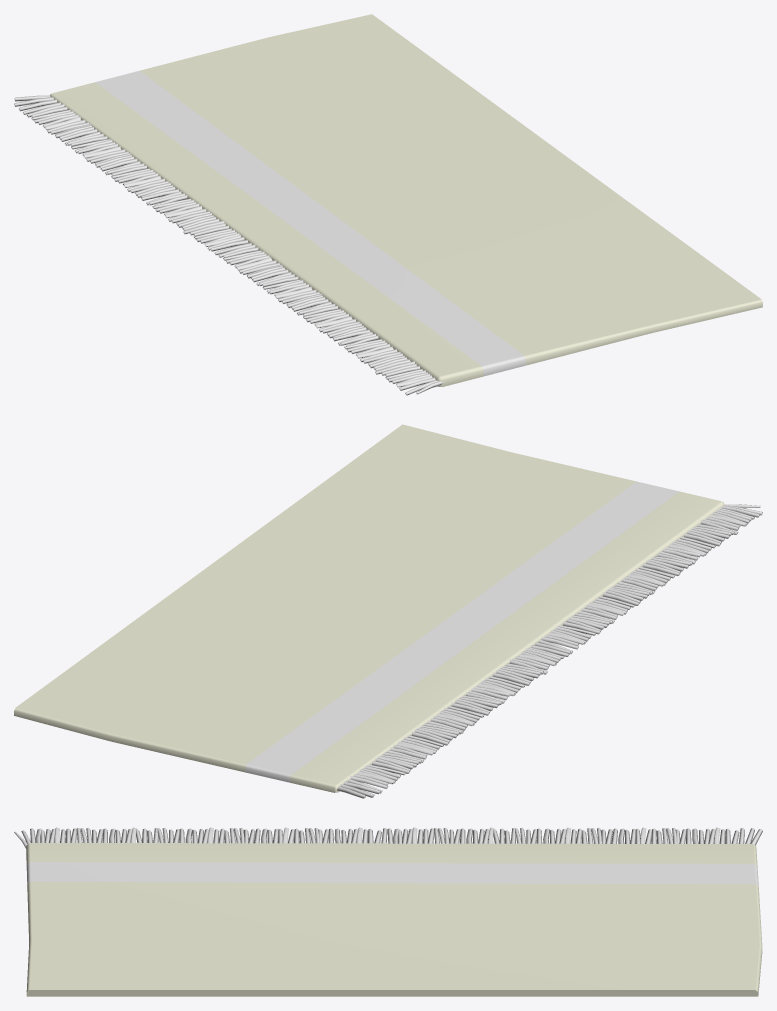
Rendered from Carpet_Left.fbx.
3 renders of one model, top to bottom at view 1: azimuth 30°, elevation 25°; view 2: azimuth 150°, elevation 25°; view 3: azimuth 270°, elevation 25°, orthographic. The views are drawn at different scales.
Visible parts, largest first — view 1: Carpet_Left; view 2: Carpet_Left; view 3: Carpet_Left.
Boxes of the visible parts, x1,y1,x2,y2 form: Carpet_Left: [14, 14, 762, 395]; Carpet_Left: [14, 424, 762, 798]; Carpet_Left: [14, 827, 762, 996].
Bounding box in the file's own units: 1.65 × 0.0423 × 3.17.
